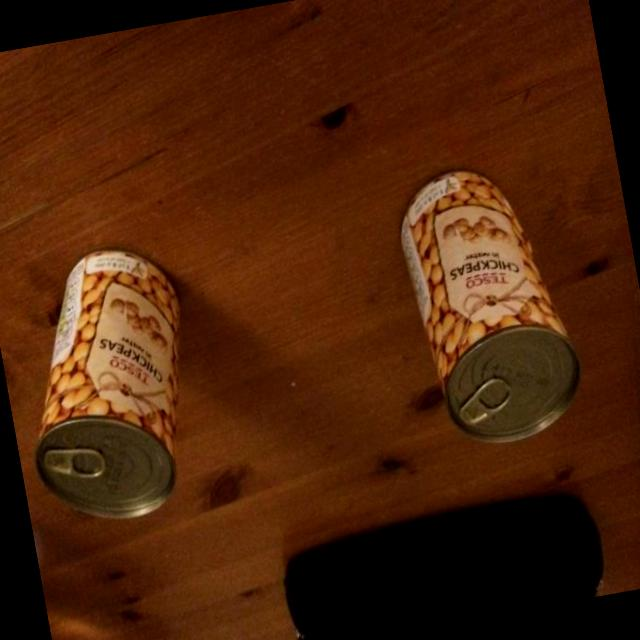can: (0, 233, 218, 538), (386, 150, 594, 458)
